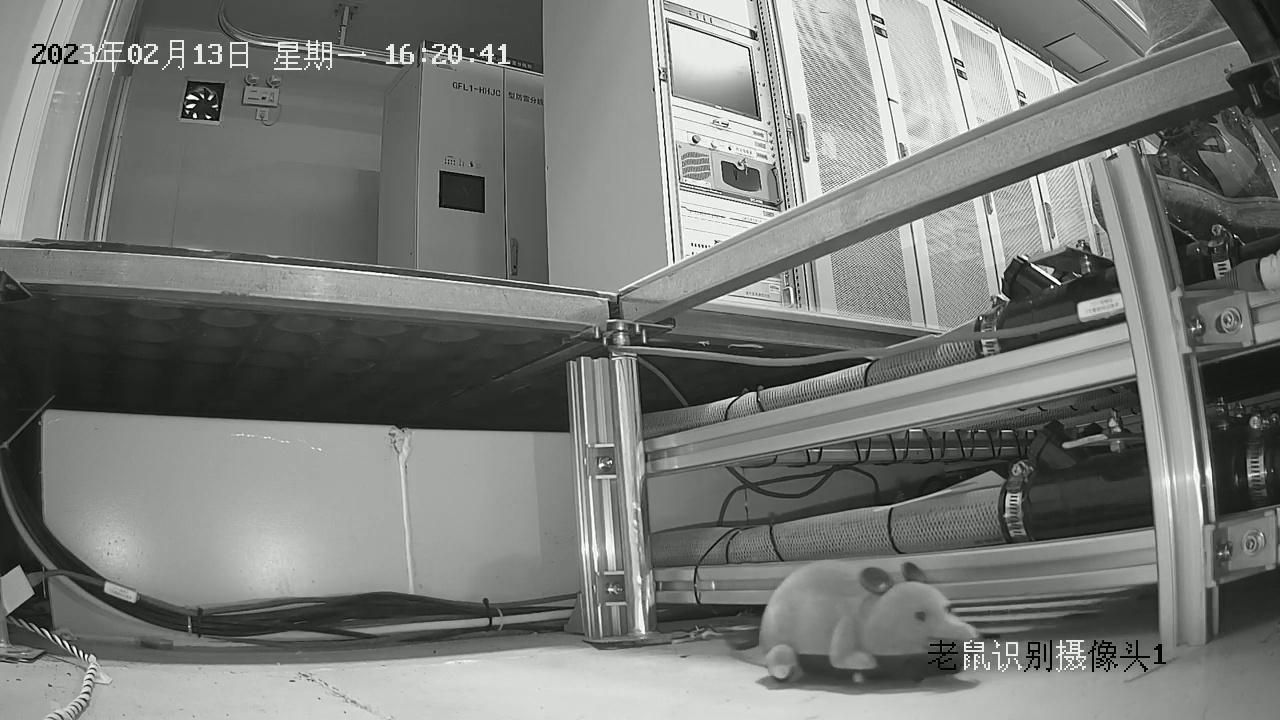rat: (758, 559, 985, 682)
